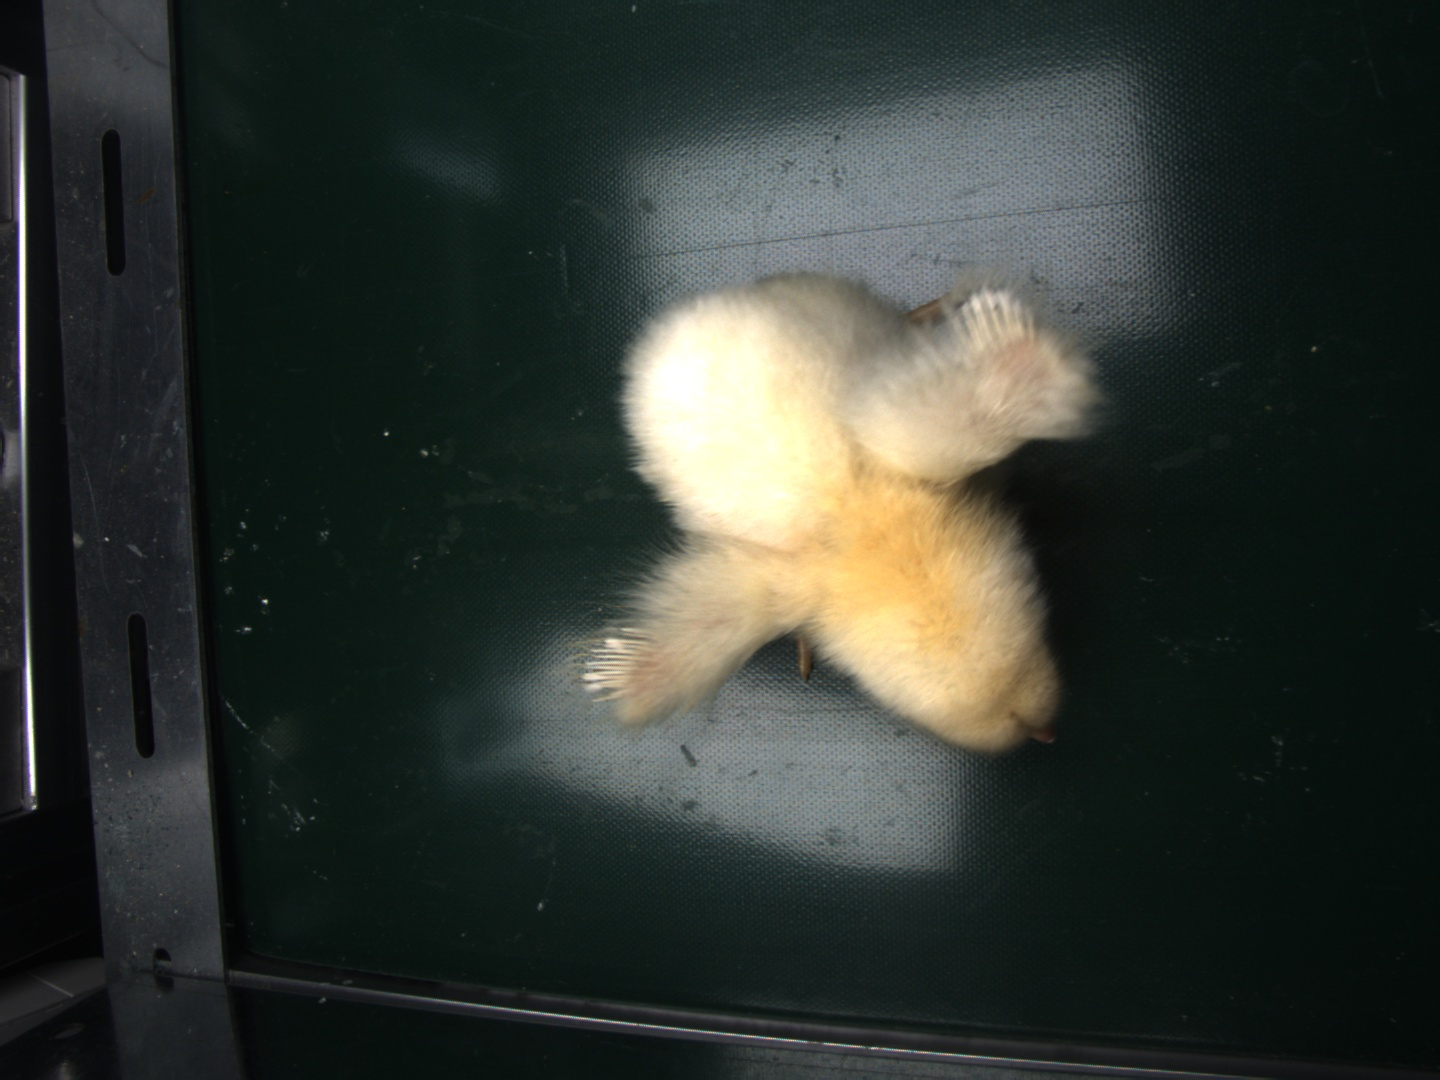male: (591, 628, 650, 700)
